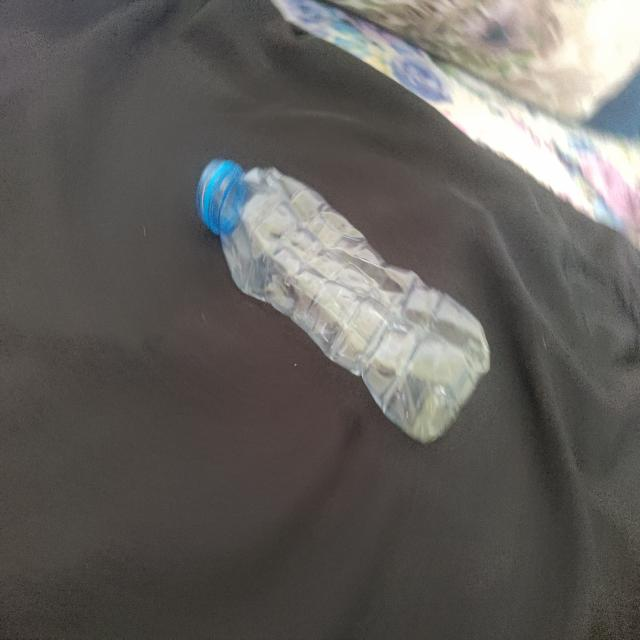plastic: (197, 151, 485, 444)
